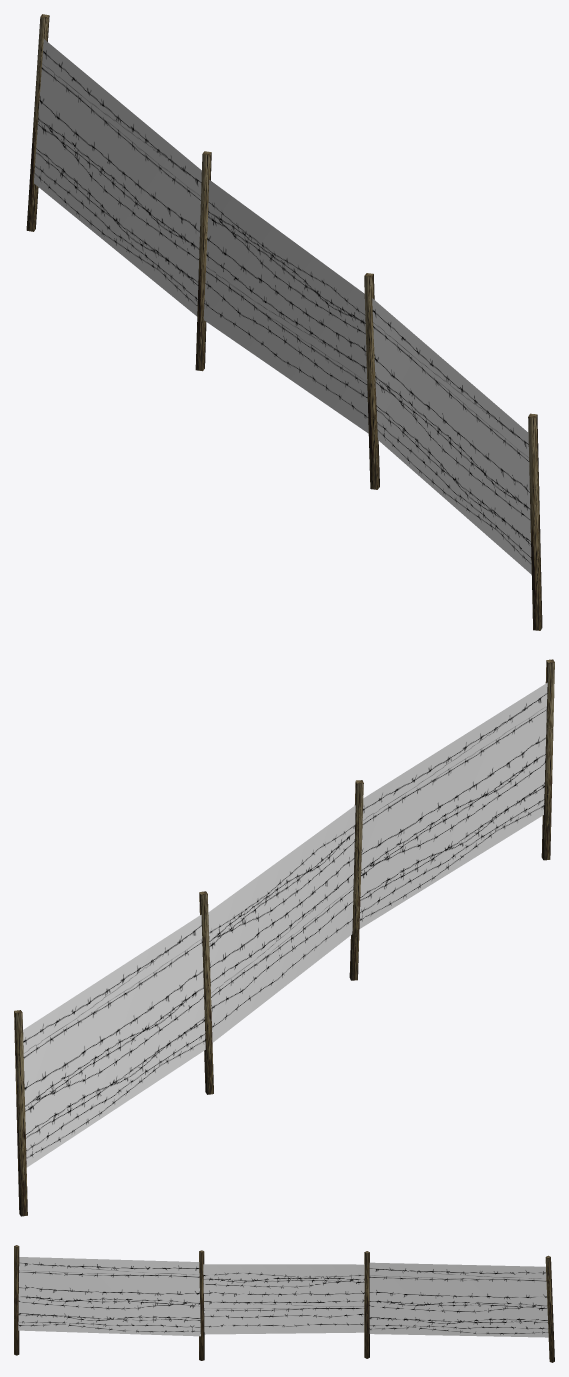
Rendered from drahtzaun01.FBX.
3 renders of one model, top to bottom at view 1: azimuth 30°, elevation 25°; view 2: azimuth 150°, elevation 25°; view 3: azimuth 270°, elevation 25°, orthographic. The views are drawn at different scales.
Visible parts, largest first — view 1: Plane002; view 2: Plane002; view 3: Plane002.
Part boxes in pixels (x1,y1,x2,y2): Plane002: [26, 14, 542, 630]; Plane002: [14, 659, 554, 1216]; Plane002: [14, 1245, 554, 1362].
Size of the model in its own units: 34.61 by 134 by 611.
